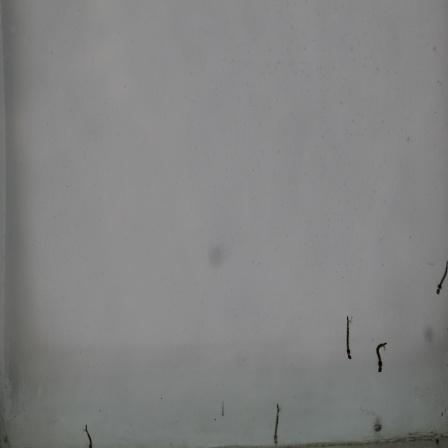Jentik-Nyamuk: (342, 312, 357, 362), (372, 338, 392, 374), (433, 255, 448, 298), (270, 398, 283, 447), (77, 422, 97, 448)
